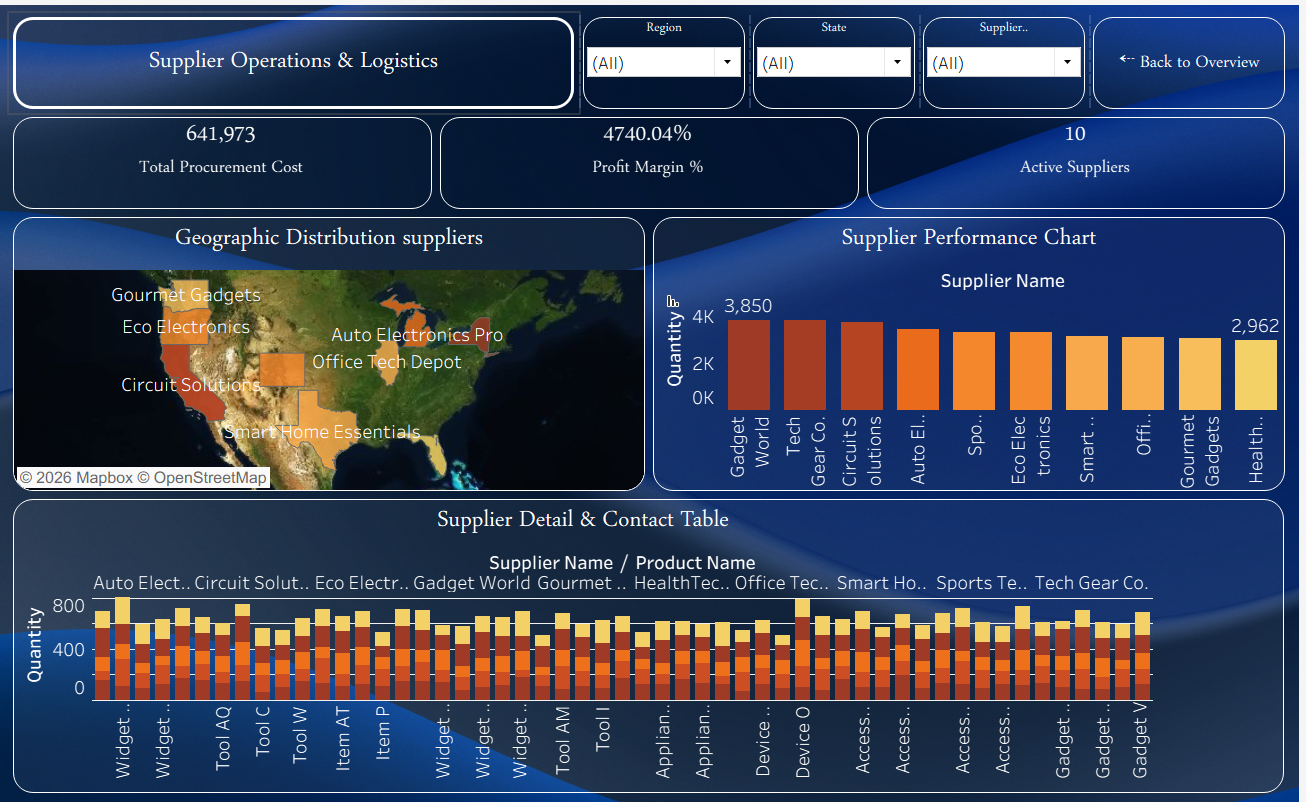

This screenshot's page, from the dashboard's own definition file:
{"tool":"tableau","page":{"name":"Supplier Operations & Logistics","canvas":[1300,800],"ordinal":1},"visuals":[{"type":"image","param":"D:/ITI Power BI/tableou/1920x1080.png","box":[0,0,1300,800]},{"type":"text","box":[10.4,8,569.2,100]},{"type":"filter","title":"Supplier Detail & Contact Table","param":"[federated.190a1cm0lepctu10lcr5x1cjp61k].[none:Region:nk]","box":[579.6,8,170,100]},{"type":"filter","title":"Geographic Distribution suppliers","param":"[federated.190a1cm0lepctu10lcr5x1cjp61k].[none:State:nk]","box":[749.6,8,170,100]},{"type":"filter","title":"Supplier Performance Chart","param":"[federated.190a1cm0lepctu10lcr5x1cjp61k].[none:Supplier_Name:nk]","box":[919.6,8,170,100]},{"type":"dashboard-object","box":[1089.6,8,200,100]},{"type":"worksheet","title":"Total Procurement","mark":"Automatic","box":[10,108,427,100]},{"type":"worksheet","title":"profit margin","mark":"Automatic","box":[437,108,427,100]},{"type":"worksheet","title":"suppliers","mark":"Automatic","box":[864,108,426,100]},{"type":"worksheet","title":"Geographic Distribution suppliers","mark":"Automatic","box":[10,208,640,282]},{"type":"worksheet","title":"Supplier Performance Chart","mark":"Automatic","rows":["Quantity"],"cols":["Supplier_Name"],"box":[650,208,640,282]},{"type":"worksheet","title":"Supplier Detail & Contact Table","mark":"Automatic","rows":["Quantity"],"cols":["Supplier_Name","Product_Name"],"box":[10.4,490,1279.2,302]}]}

Visuals, with their boxes in screenshot pixels (x1, y1, x2, y2), scaled from the page's 1300x800 canvas onto the 1306x802 screenshot:
image: <box>0,0,1305,801</box>
text: <box>10,8,582,108</box>
"Supplier Detail & Contact Table" filter: <box>582,8,753,108</box>
"Geographic Distribution suppliers" filter: <box>753,8,924,108</box>
"Supplier Performance Chart" filter: <box>924,8,1095,108</box>
dashboard-object: <box>1095,8,1296,108</box>
"Total Procurement" worksheet: <box>10,108,439,209</box>
"profit margin" worksheet: <box>439,108,868,209</box>
"suppliers" worksheet: <box>868,108,1296,209</box>
"Geographic Distribution suppliers" worksheet: <box>10,209,653,491</box>
"Supplier Performance Chart" worksheet: <box>653,209,1296,491</box>
"Supplier Detail & Contact Table" worksheet: <box>10,491,1296,794</box>
